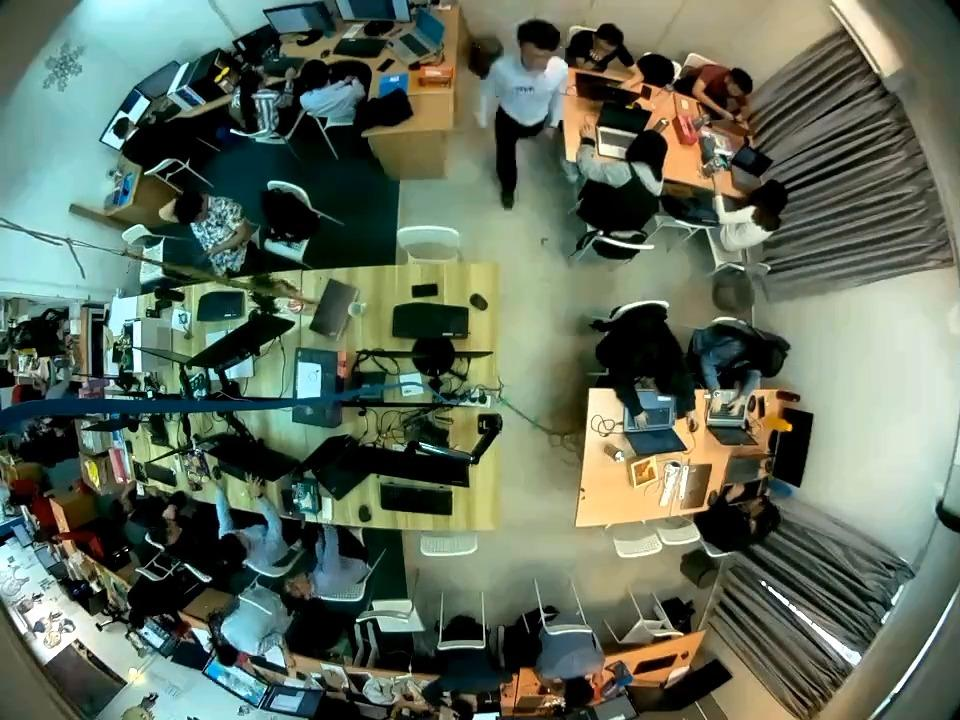name-tag: (511, 86, 537, 98)
